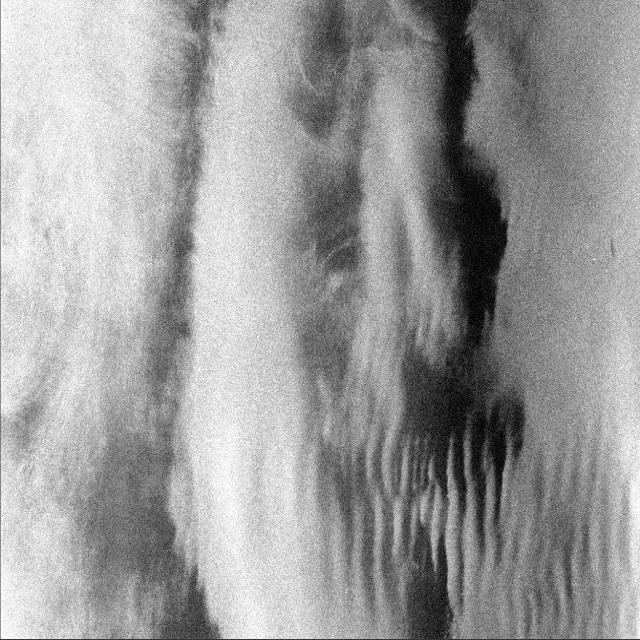oil-spill: (604, 233, 620, 266)
